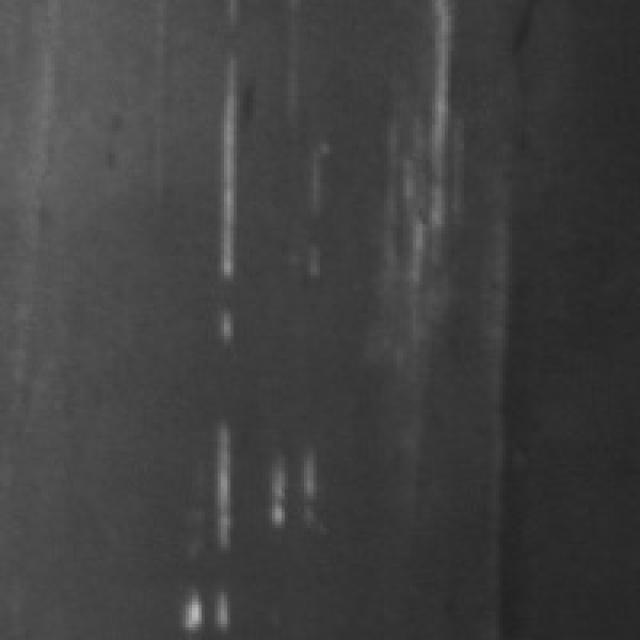scratches: (170, 410, 320, 630), (371, 0, 464, 272), (205, 48, 256, 339)
